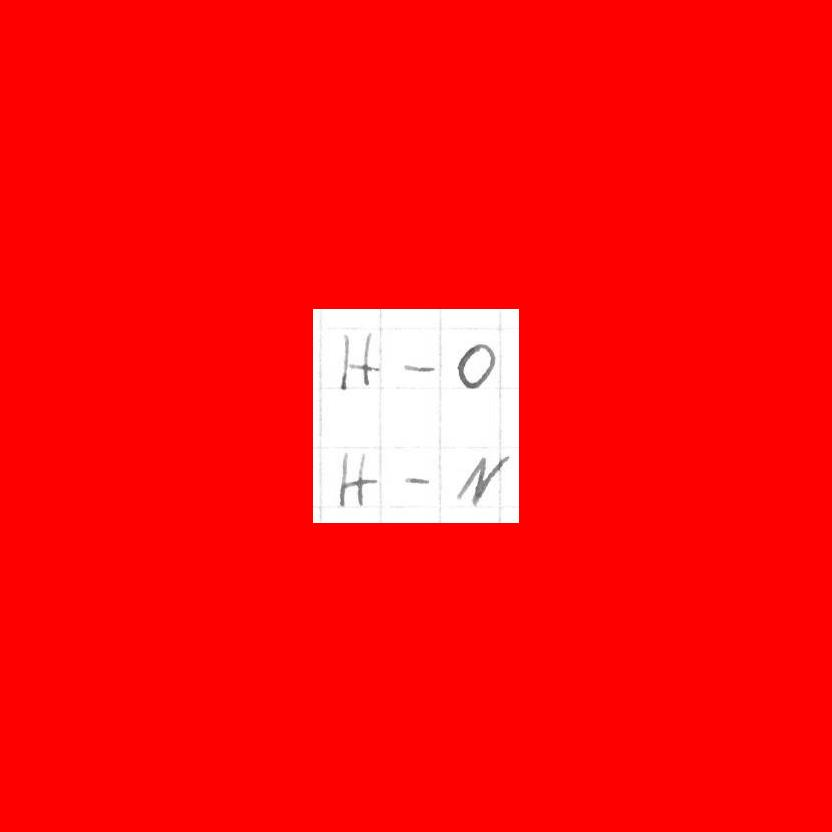Char: (450, 448, 513, 505), (336, 445, 381, 508), (340, 328, 380, 393), (453, 340, 497, 394), (402, 469, 434, 493), (400, 357, 438, 375)
